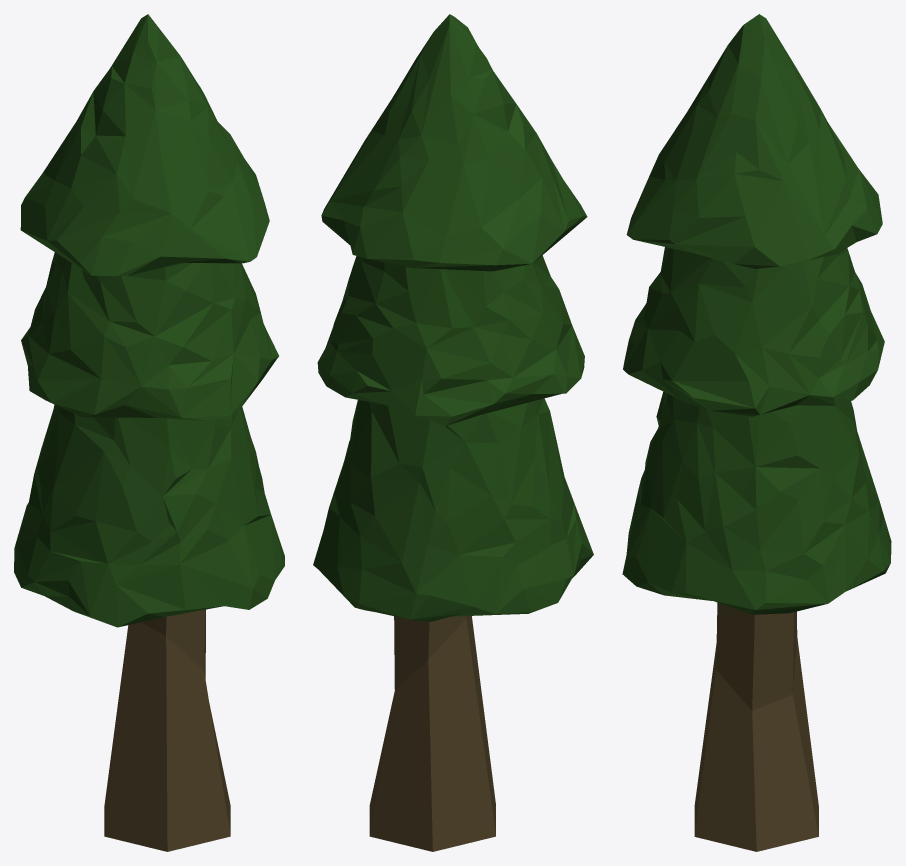
Rendered from PineTree1.fbx.
3 renders of one model, left to right at view 1: azimuth 30°, elevation 25°; view 2: azimuth 150°, elevation 25°; view 3: azimuth 270°, elevation 25°, orthographic.
Visible parts, largest first — view 1: Tree6; view 2: Tree6; view 3: Tree6.
Part boxes in pixels (bbox=[...]): Tree6: bbox=[14, 14, 284, 851]; Tree6: bbox=[313, 14, 593, 851]; Tree6: bbox=[622, 14, 891, 851].
Bounding box in the file's own units: 1.87 × 6.05 × 1.85.
